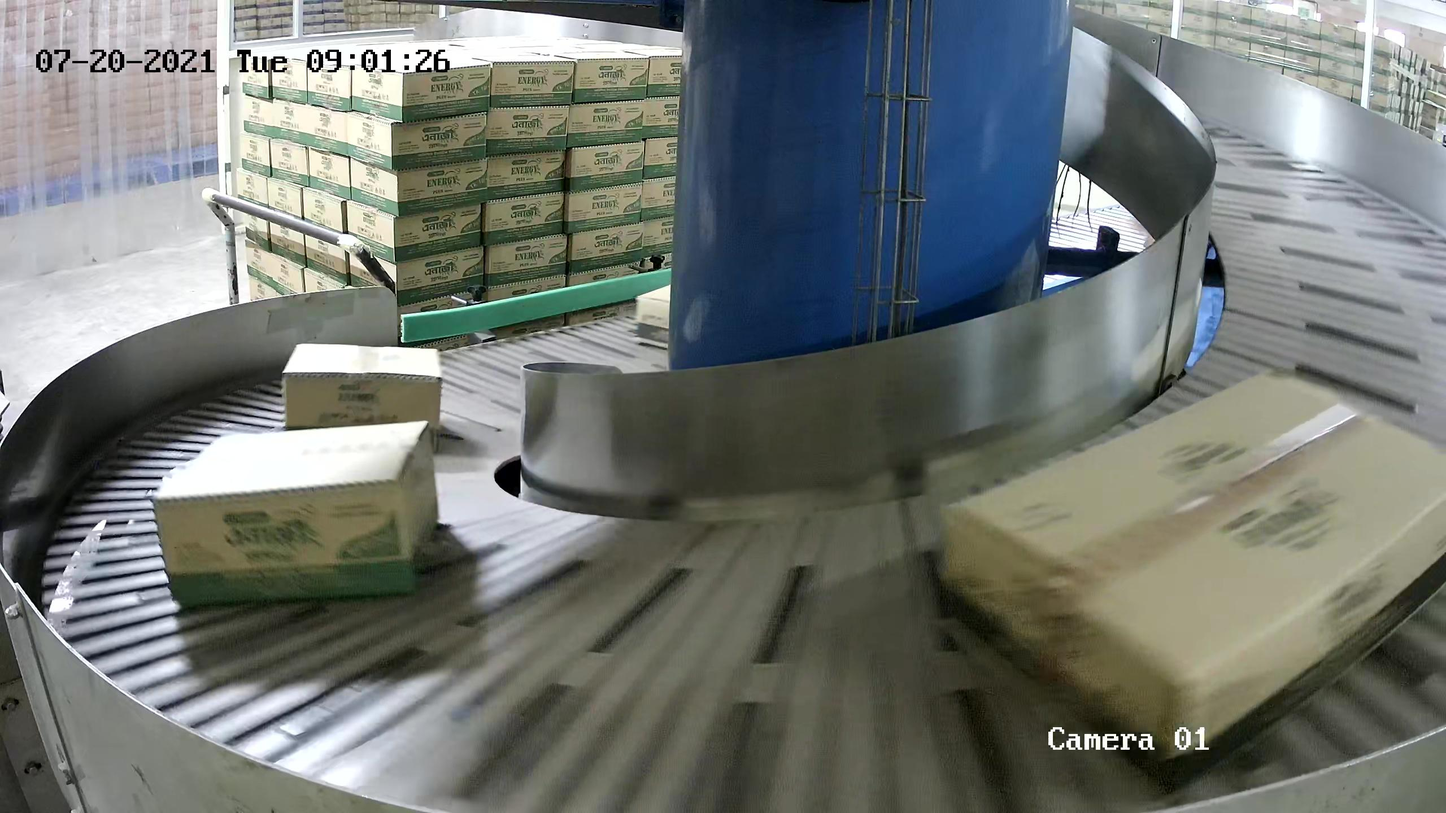Box: (930, 357, 1446, 801), (149, 418, 442, 608), (279, 342, 445, 458), (634, 282, 672, 349)
